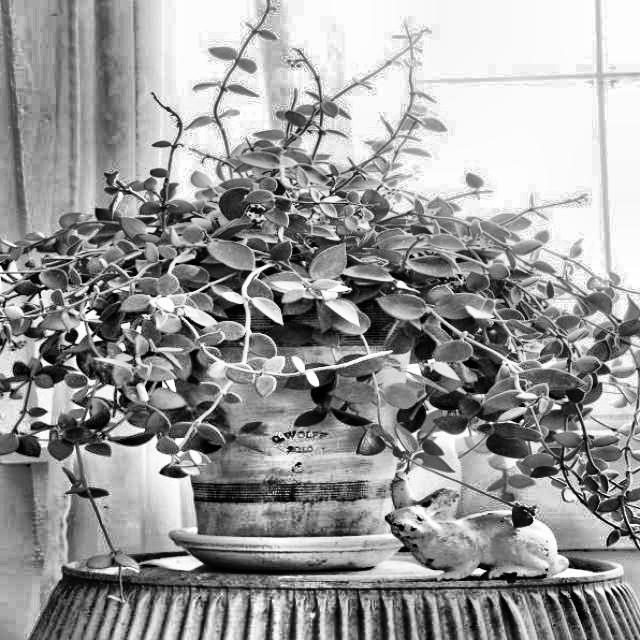plants: (64, 133, 561, 365)
